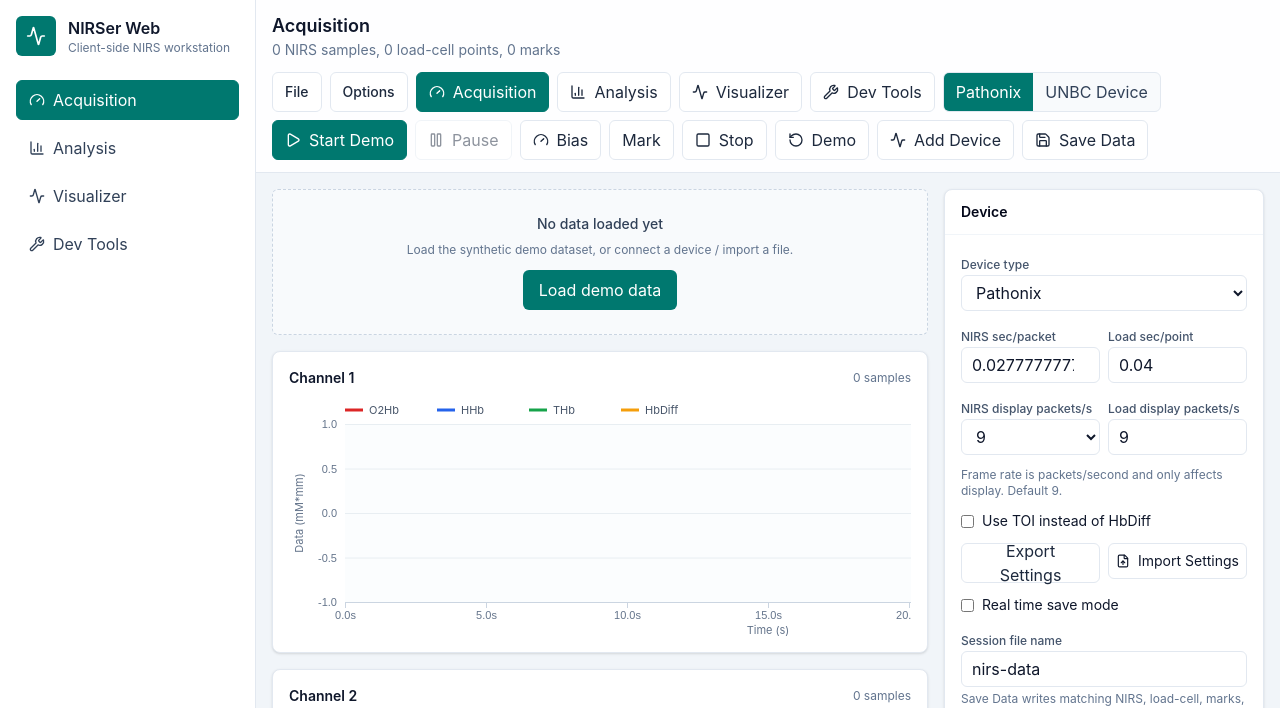
Test case: Bias & chart controls › toggles the bias button label
The width and height of the screenshot is (1280, 708).
Step 1. Click the button "Bias" → (560, 140), box x1=520 y1=120 x2=601 y2=160
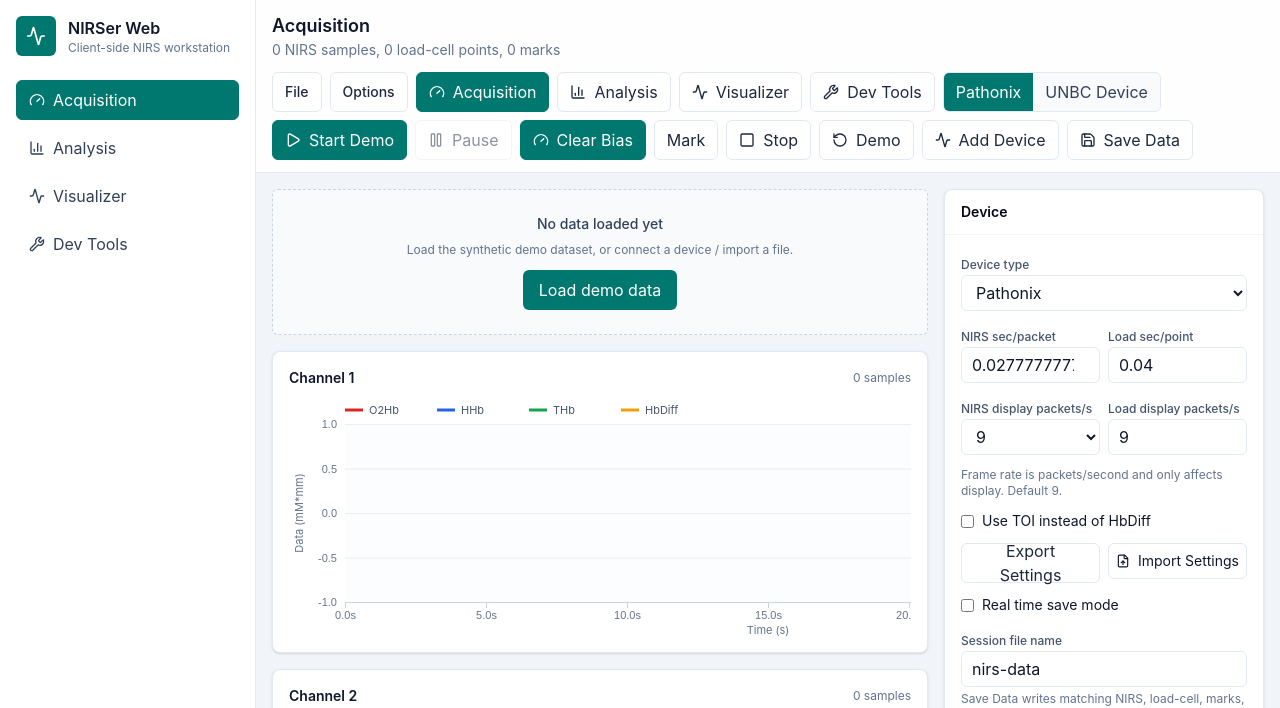
Expected: the button "Clear Bias" is shown, x1=520 y1=120 x2=646 y2=160
